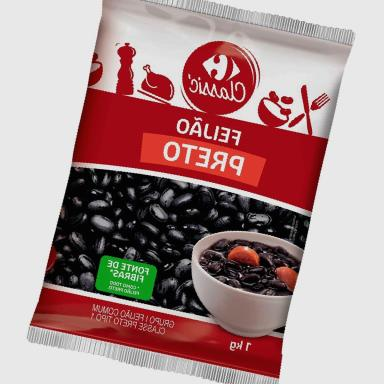beans package: (29, 0, 353, 383)
